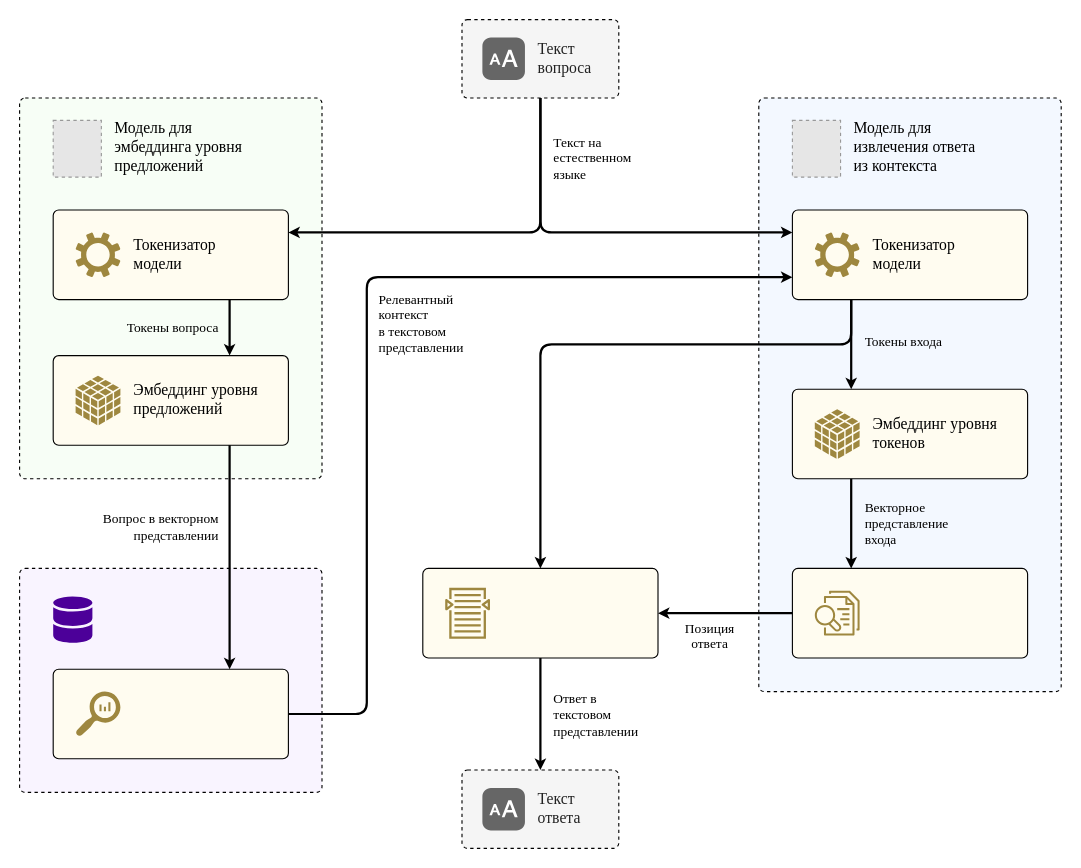
This 1081x868 diagram has some shape labels left out. Grey dashed boxes stand in for pictures. Each missing label, with the centre of its shape:
"Векторная база данных" goes at (72,619).
"Извлечение текста ответа из контекста" goes at (467,612).
"Поиск ответа в контексте" goes at (836,612).
"Семантический поиск" goes at (97,713).
